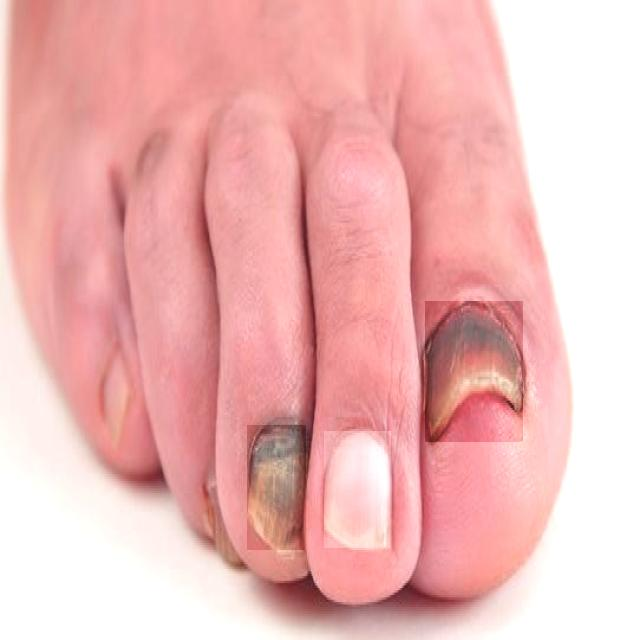diabetes: (425, 302, 523, 442), (325, 431, 391, 548), (248, 425, 306, 550)
